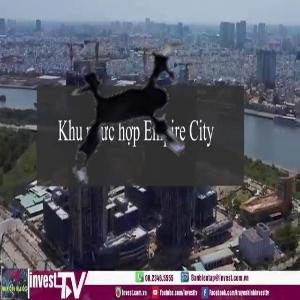drone: (42, 23, 236, 217)
